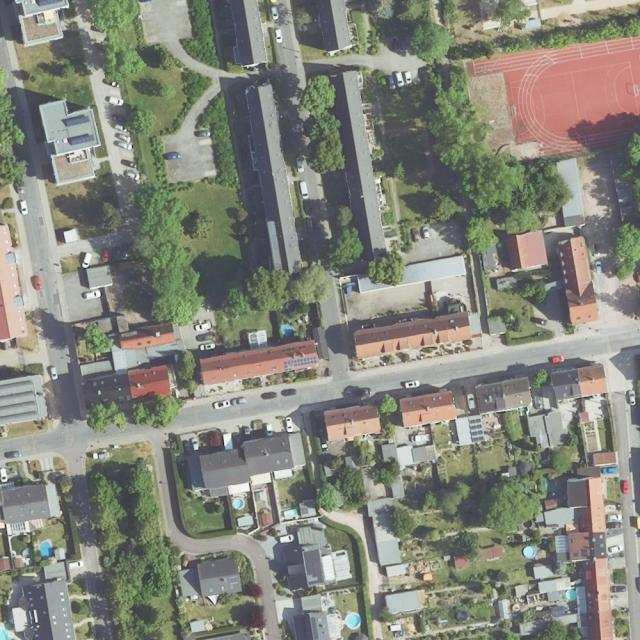PV: (303, 549, 324, 583), (284, 356, 318, 372), (469, 417, 485, 443), (70, 134, 94, 145), (66, 115, 90, 126), (311, 616, 319, 640)
ST: (231, 576, 237, 590)
